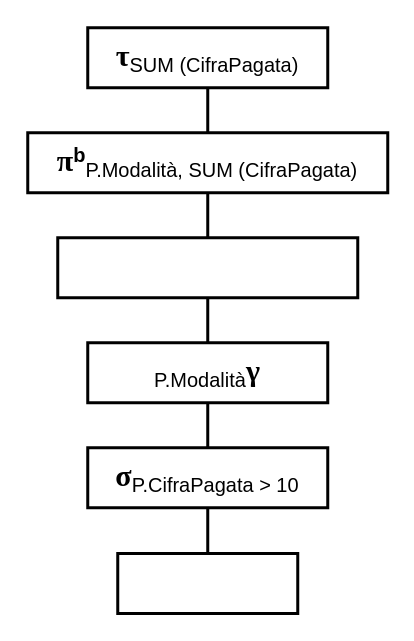
The diagram is 414 pixels wide and 641 high, and some of its shapes have lost their labels. The shapes that lost their labels are listed below. From the top down, each one's centre as x and y in pixels, then its label:
At point 207,267: "σ SUM (CifraPagata) < 10000".
At point 207,582: "Pagamenti P".
